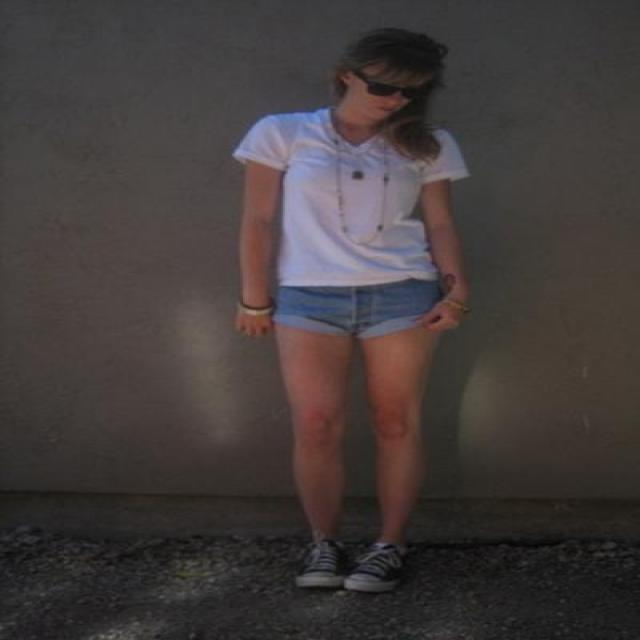shirt: (234, 109, 467, 285)
shoe: (296, 539, 418, 592)
shorts: (274, 277, 444, 337)
